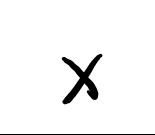mult: (62, 54, 103, 105)
